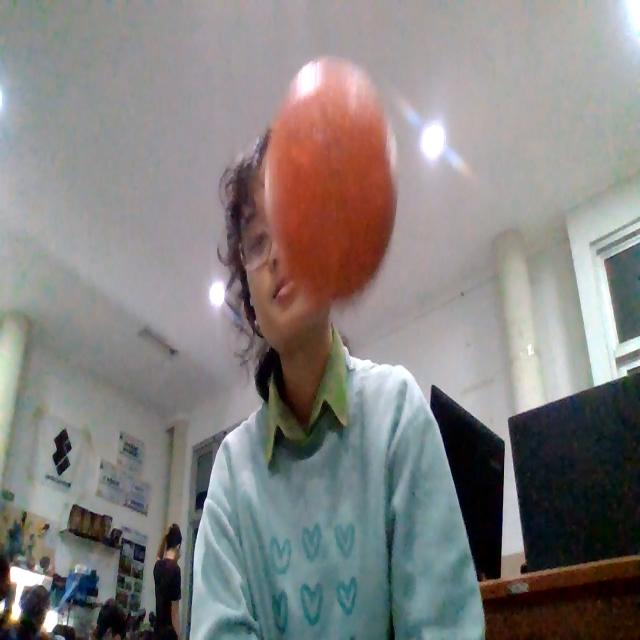ball: (270, 77, 394, 300)
